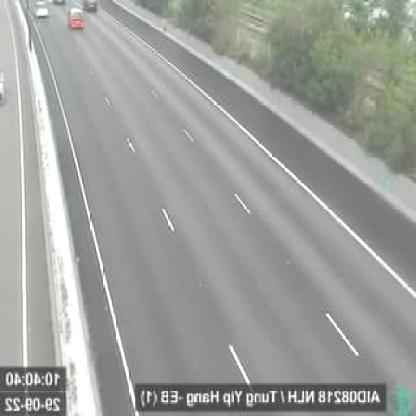Car: (70, 7, 88, 35), (35, 0, 51, 19), (83, 0, 100, 16)
